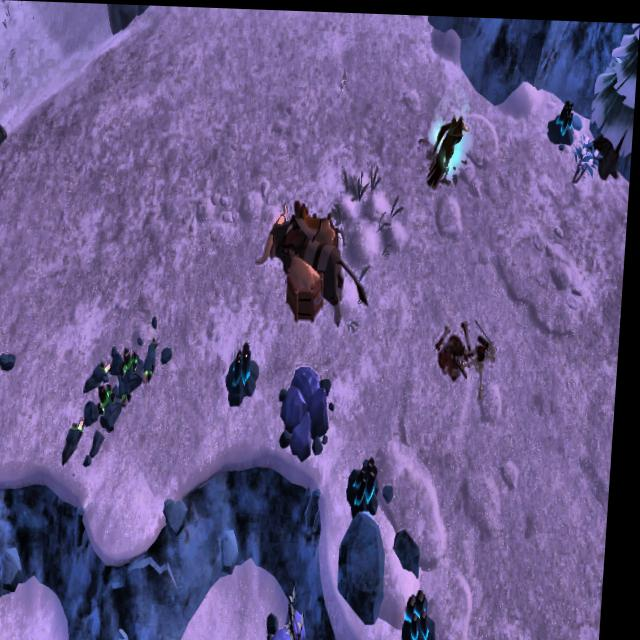enemy_factionUndead: (426, 108, 472, 192)
fiber_t4: (573, 133, 603, 180)
ore_t4: (410, 582, 446, 640), (357, 448, 389, 512), (234, 336, 259, 397), (557, 93, 581, 134)
rock_t4: (281, 353, 343, 462)
